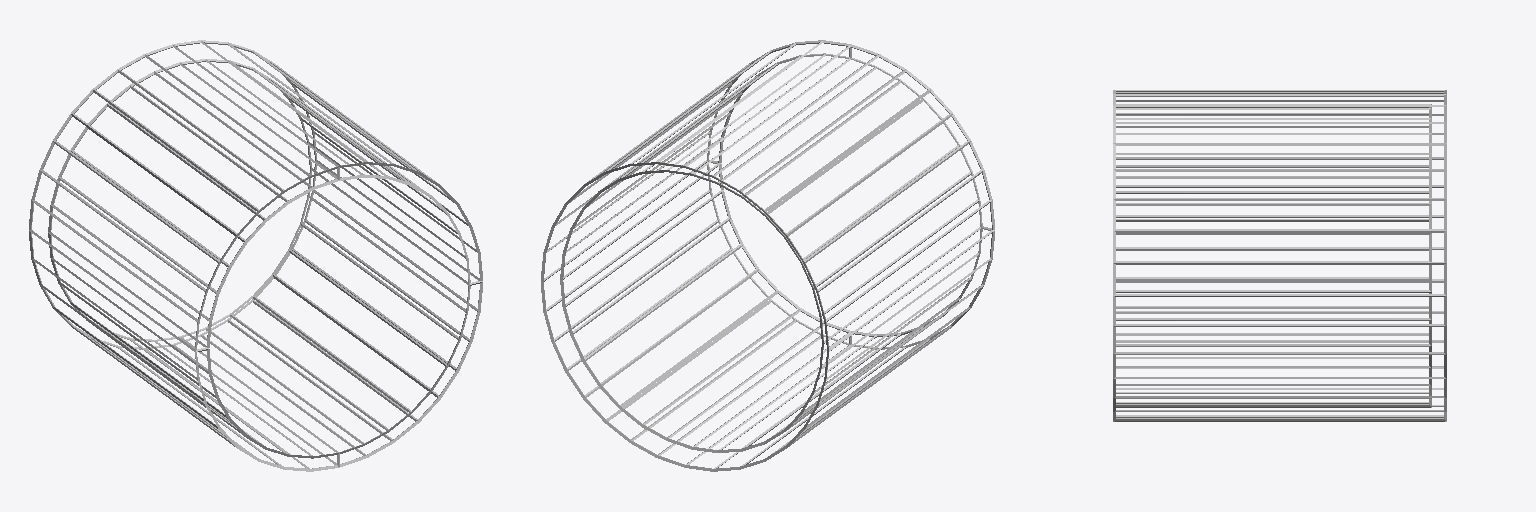
File: CylinderHollowOpenWireframe.obj
3 renders of one model, left to right at view 1: azimuth 30°, elevation 25°; view 2: azimuth 150°, elevation 25°; view 3: azimuth 270°, elevation 25°, orthographic.
Visible parts, largest first — view 1: Cylinder.004_Cylinder.008; view 2: Cylinder.004_Cylinder.008; view 3: Cylinder.004_Cylinder.008.
Part boxes in pixels (left/top/right/bottom): Cylinder.004_Cylinder.008: left=29, top=40, right=482, bottom=471; Cylinder.004_Cylinder.008: left=541, top=40, right=994, bottom=471; Cylinder.004_Cylinder.008: left=1113, top=90, right=1446, bottom=421.
Bounding box in the file's own units: 200 × 200 × 200.